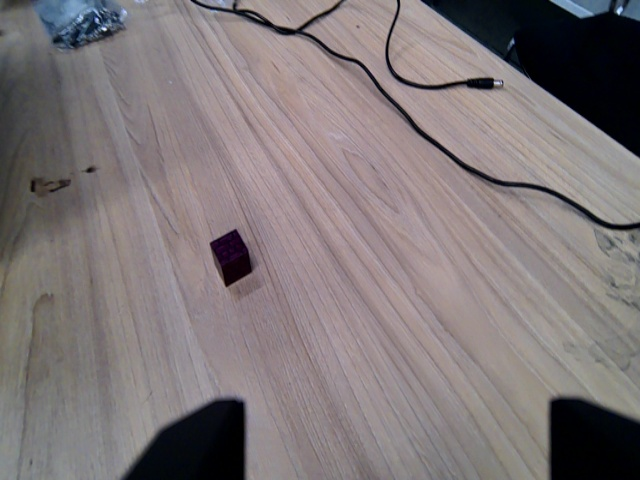brick: (203, 225, 257, 288)
